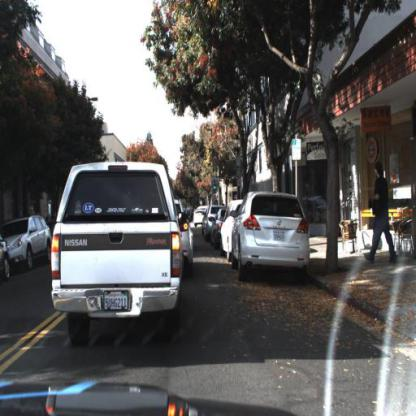car: (53, 162, 181, 349), (232, 190, 310, 278), (11, 214, 52, 278), (222, 200, 237, 260), (1, 233, 13, 281), (194, 205, 207, 228)
pedestrian: (370, 158, 397, 270)
trafficLight-Green: (214, 179, 219, 193)
